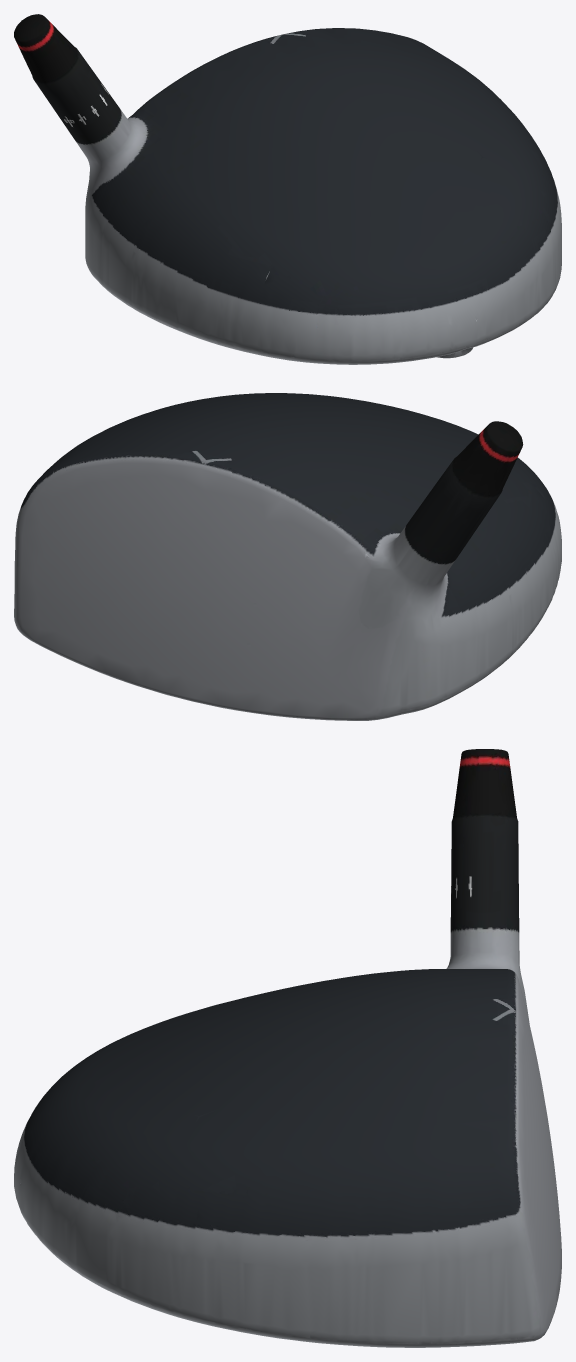
3 views of the same model, one above another, from view 1: azimuth 30°, elevation 25°; view 2: azimuth 150°, elevation 25°; view 3: azimuth 270°, elevation 25° (orthographic). The views are drawn at different scales.
Parts seen in each view (by area): view 1: head; view 2: head; view 3: head.
Boxes of the visible parts, x1,y1,x2,y2 form: head: (14,14,561,364); head: (14,393,561,720); head: (14,749,561,1347).
Size of the model in its own units: 0.1374 by 0.0835 by 0.1138.
Materials: 1 (1 with a texture image).
